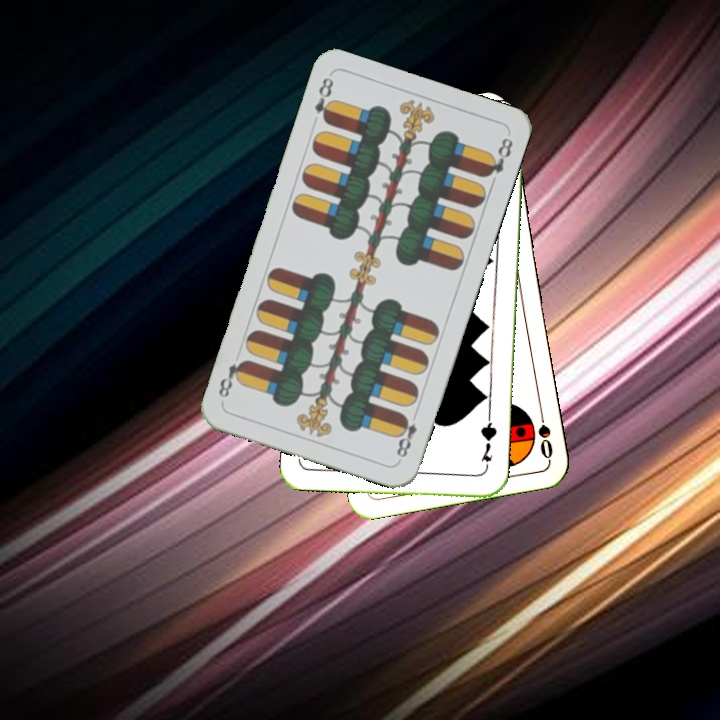E8: (310, 73, 337, 127), (392, 411, 420, 463)
G7: (476, 413, 499, 472)
SO: (534, 402, 556, 462)
